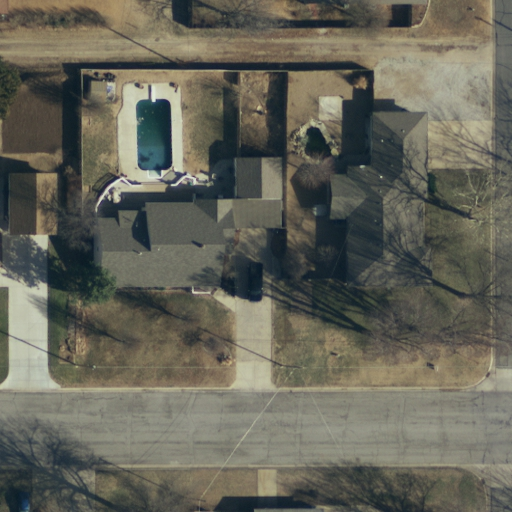DT: (273, 355, 309, 379)
